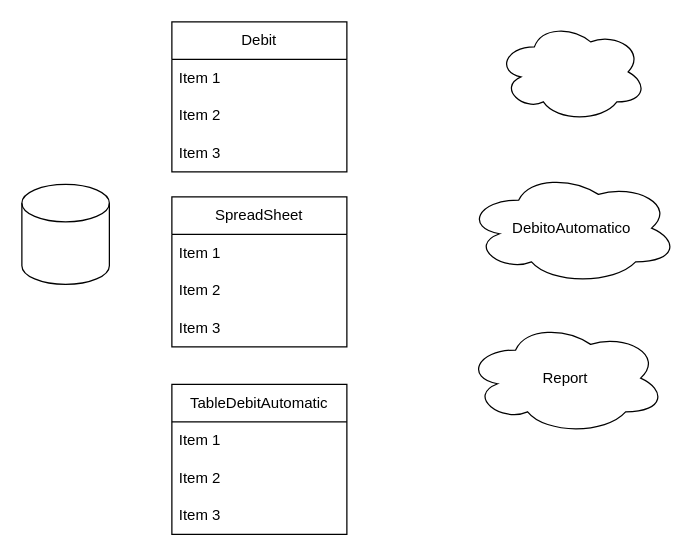
Image size: 700x556. Some labels were removed from this diagram. The centre of each missing label's shape, as x and y in pixels:
"DEVSSE00" goes at (65,233).
"Login" goes at (571,71).
